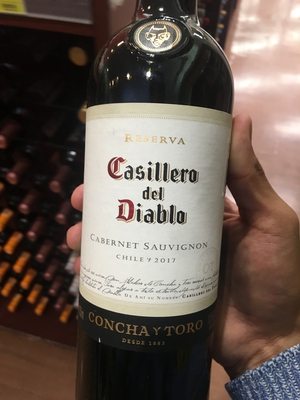casillero del diablo cabernet sauvignon: (70, 13, 241, 400)
